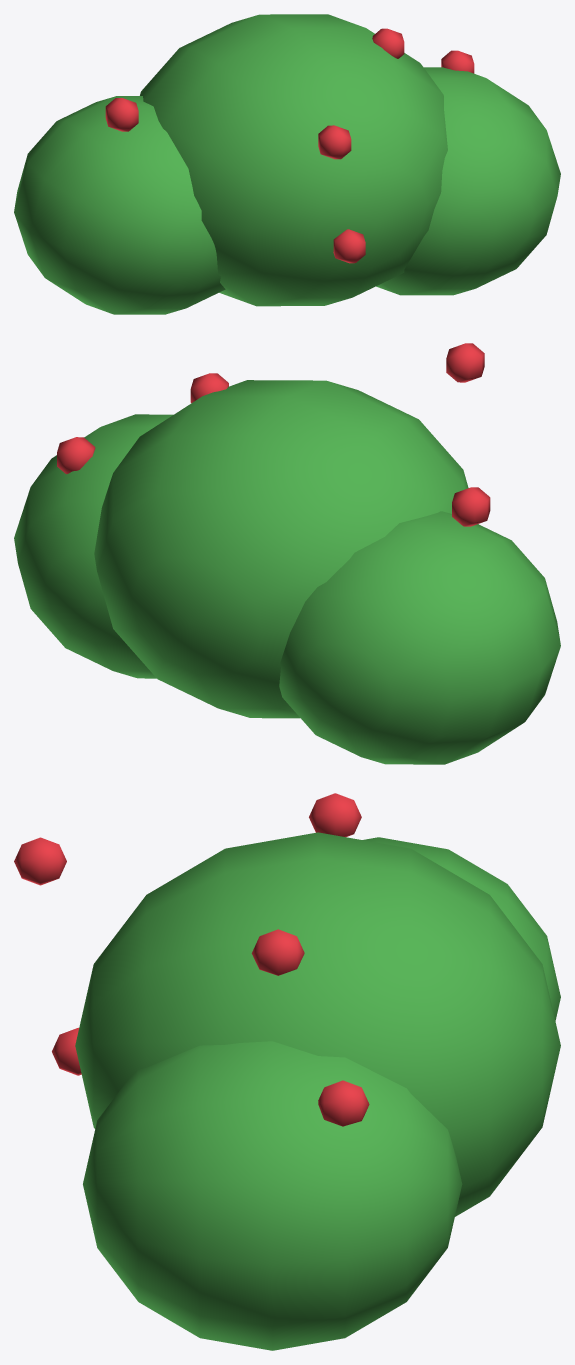
Rendered from Bush.fbx.
3 renders of one model, top to bottom at view 1: azimuth 30°, elevation 25°; view 2: azimuth 150°, elevation 25°; view 3: azimuth 270°, elevation 25°, orthographic. The views are drawn at different scales.
Visible parts, largest first — view 1: Bush; view 2: Bush; view 3: Bush.
Part boxes in pixels (x1,y1,x2,y2): Bush: (14,14,560,314); Bush: (14,343,560,764); Bush: (14,793,560,1350).
Bounding box in the file's own units: 5.15 × 2.82 × 3.6.
Materials: 1 (1 with a texture image).
